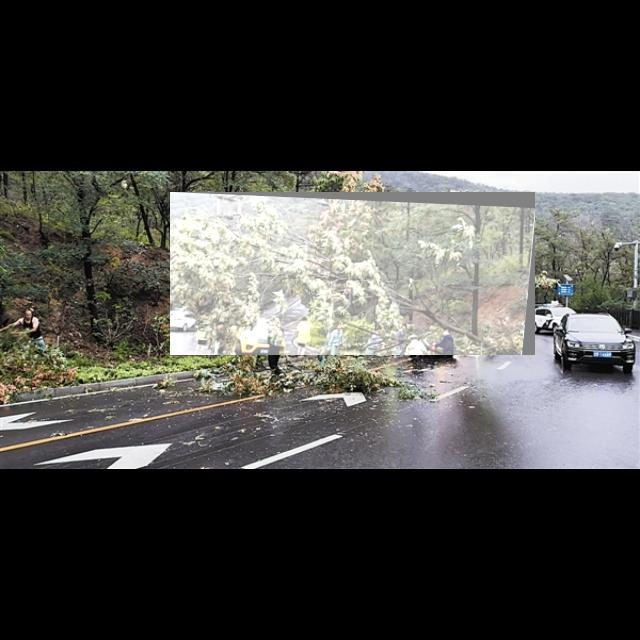Fallen Tree: (170, 192, 536, 356)
